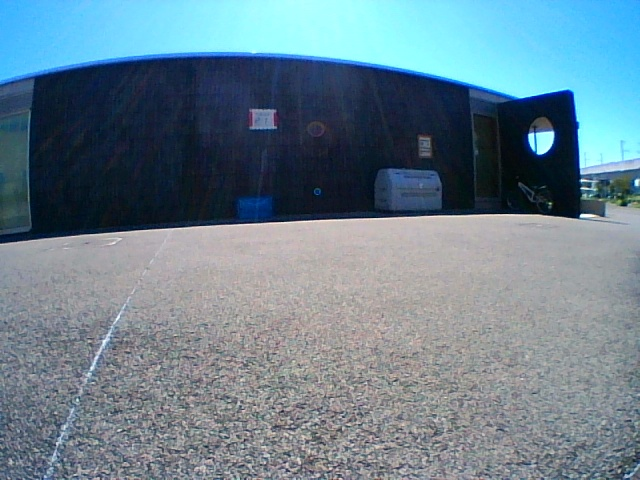blue_box: (237, 196, 271, 219)
